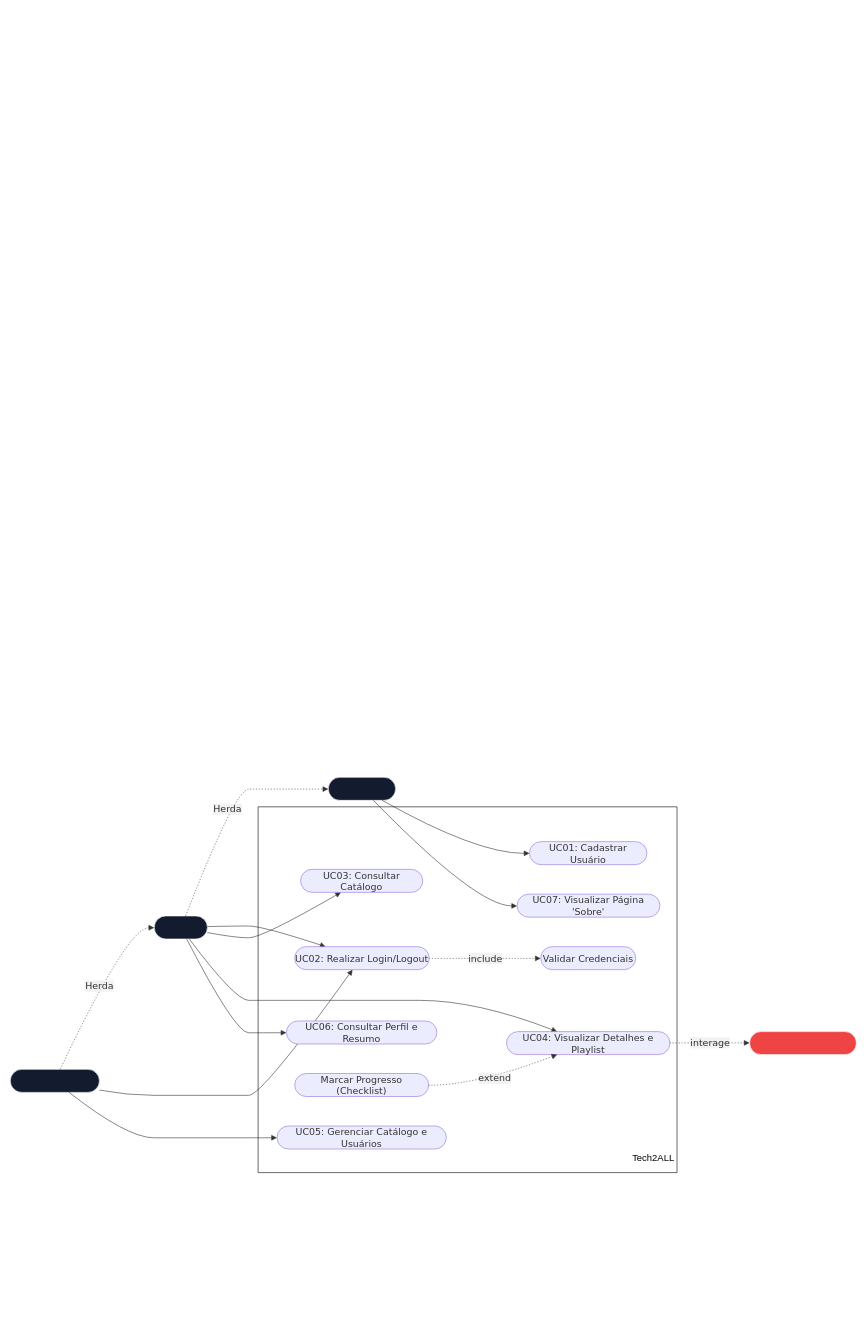
This 867x1330 diagram has some shape labels left out. The centre of each missing label's shape, as x and y in pixels:
"▶️ YouTube (Sistema)" belongs at point 802,1043.
"⚙️ Administrador" belongs at point 54,1080.
"🎓 Aluno" belongs at point 180,927.
"👤 Visitante" belongs at point 362,788.
